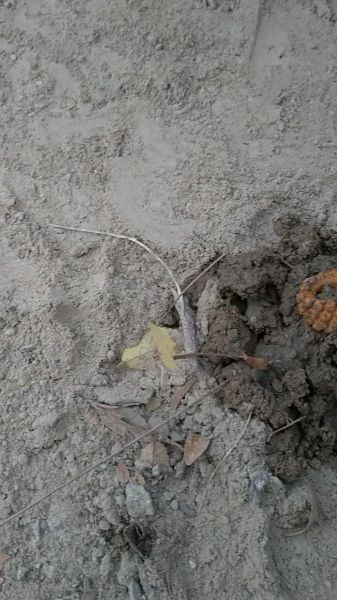eggs: (293, 265, 337, 336)
